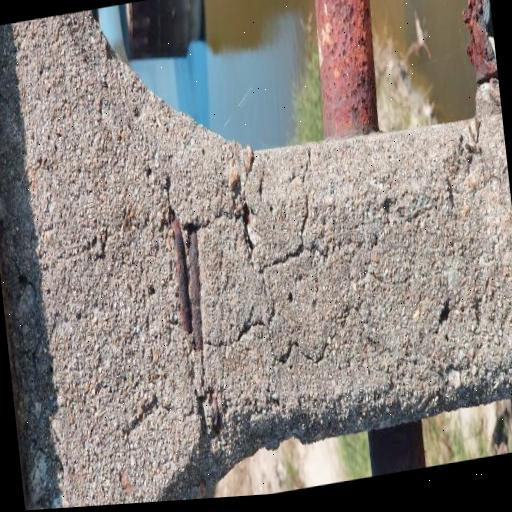exposed_rebar: (173, 217, 193, 334), (189, 231, 203, 351)
